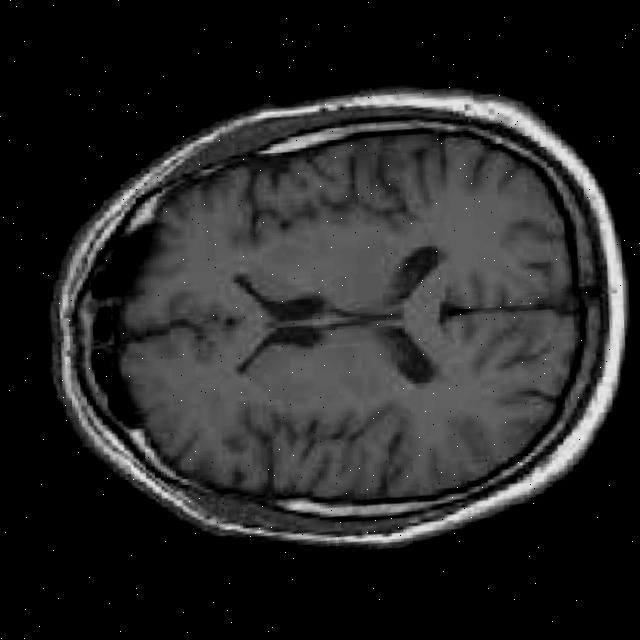NoTumor: (34, 73, 639, 570)
